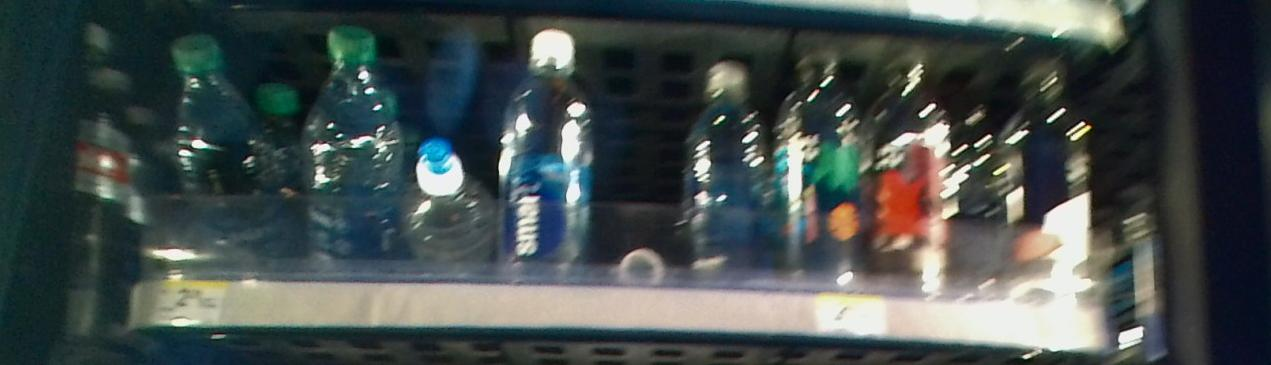bottle: (302, 21, 407, 255), (1001, 54, 1092, 299), (154, 31, 283, 203), (771, 37, 858, 289), (869, 44, 949, 303), (502, 32, 583, 282), (683, 54, 766, 279), (416, 140, 485, 271)
